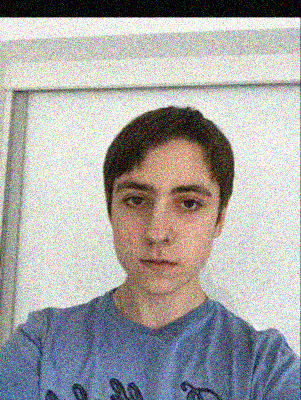without_mask: (110, 169, 215, 296)
